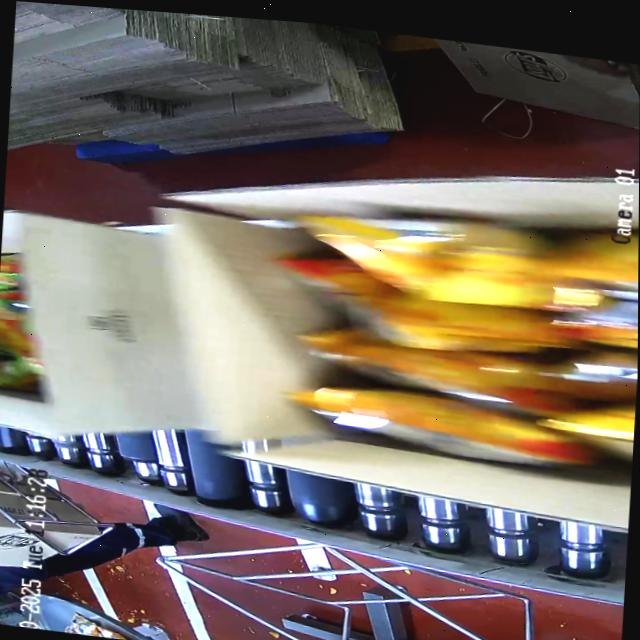FRENCH_CHEESE: (254, 178, 639, 477)
